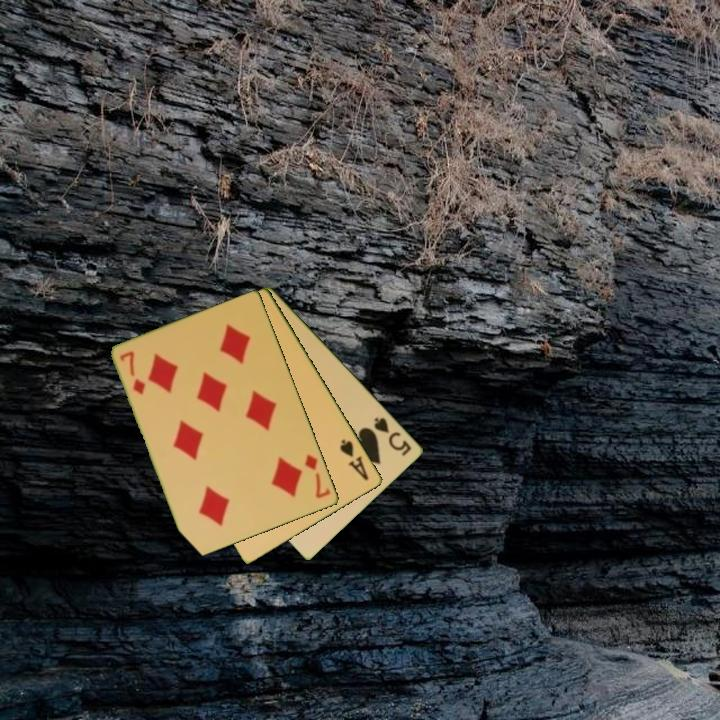5s: (371, 414, 415, 459)
7d: (301, 451, 334, 502), (116, 347, 149, 398)
As: (336, 435, 372, 484)
